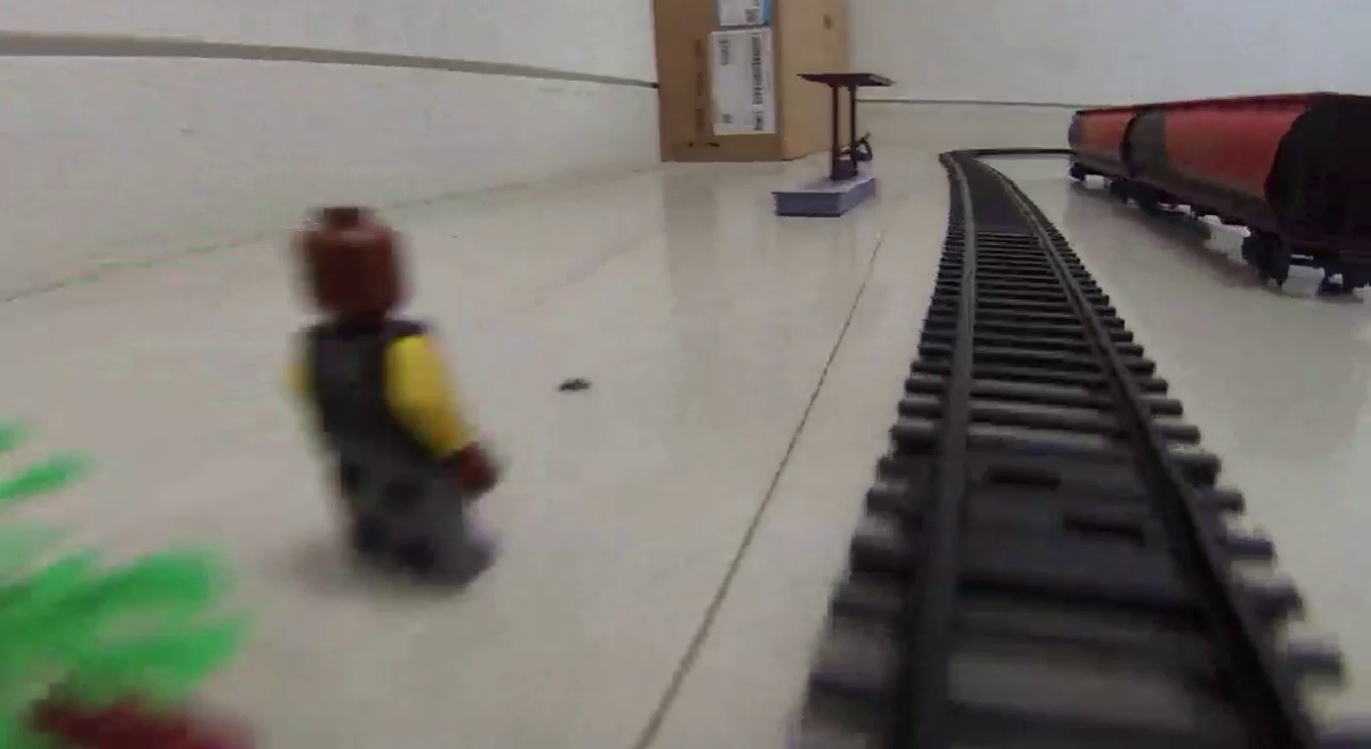people: (291, 206, 497, 580)
